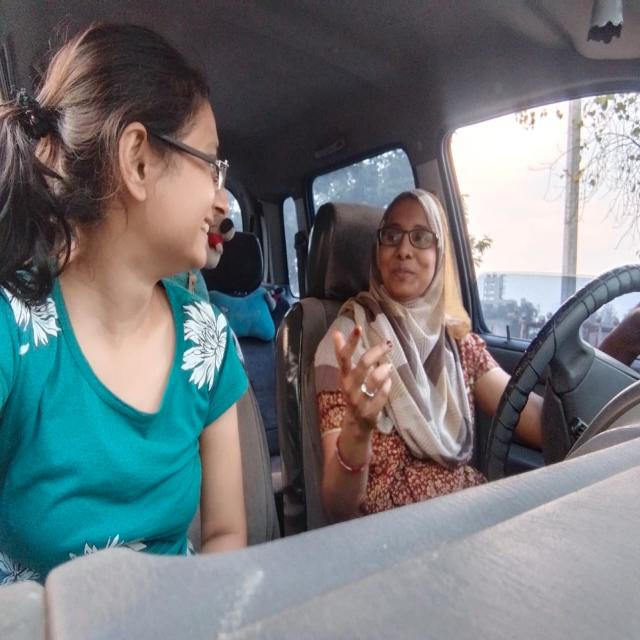LeftRight: (50, 12, 234, 282), (371, 182, 449, 306)
